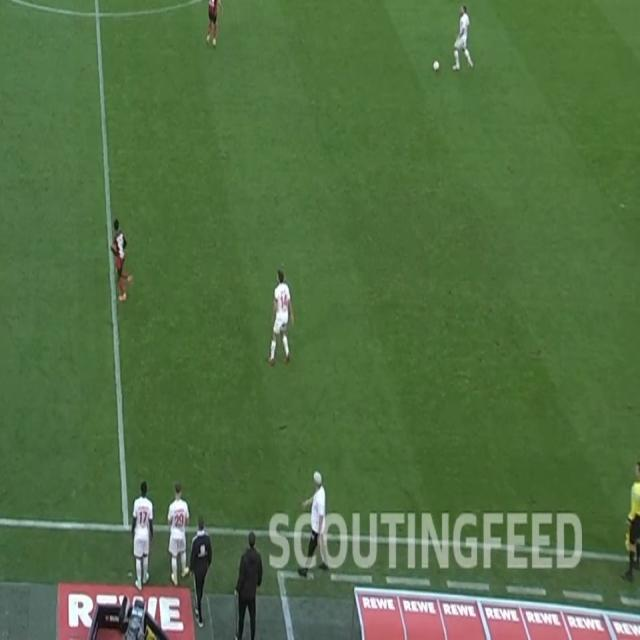ball: (433, 58, 440, 72)
